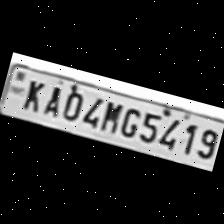0: (57, 86, 86, 124)
1: (173, 118, 199, 156)
4: (154, 113, 183, 152), (77, 90, 105, 129)
5: (134, 108, 163, 146)
9: (192, 122, 222, 162)
A: (38, 80, 66, 118)
G: (114, 102, 142, 140)
K: (16, 74, 46, 114)
M: (95, 97, 123, 136)
